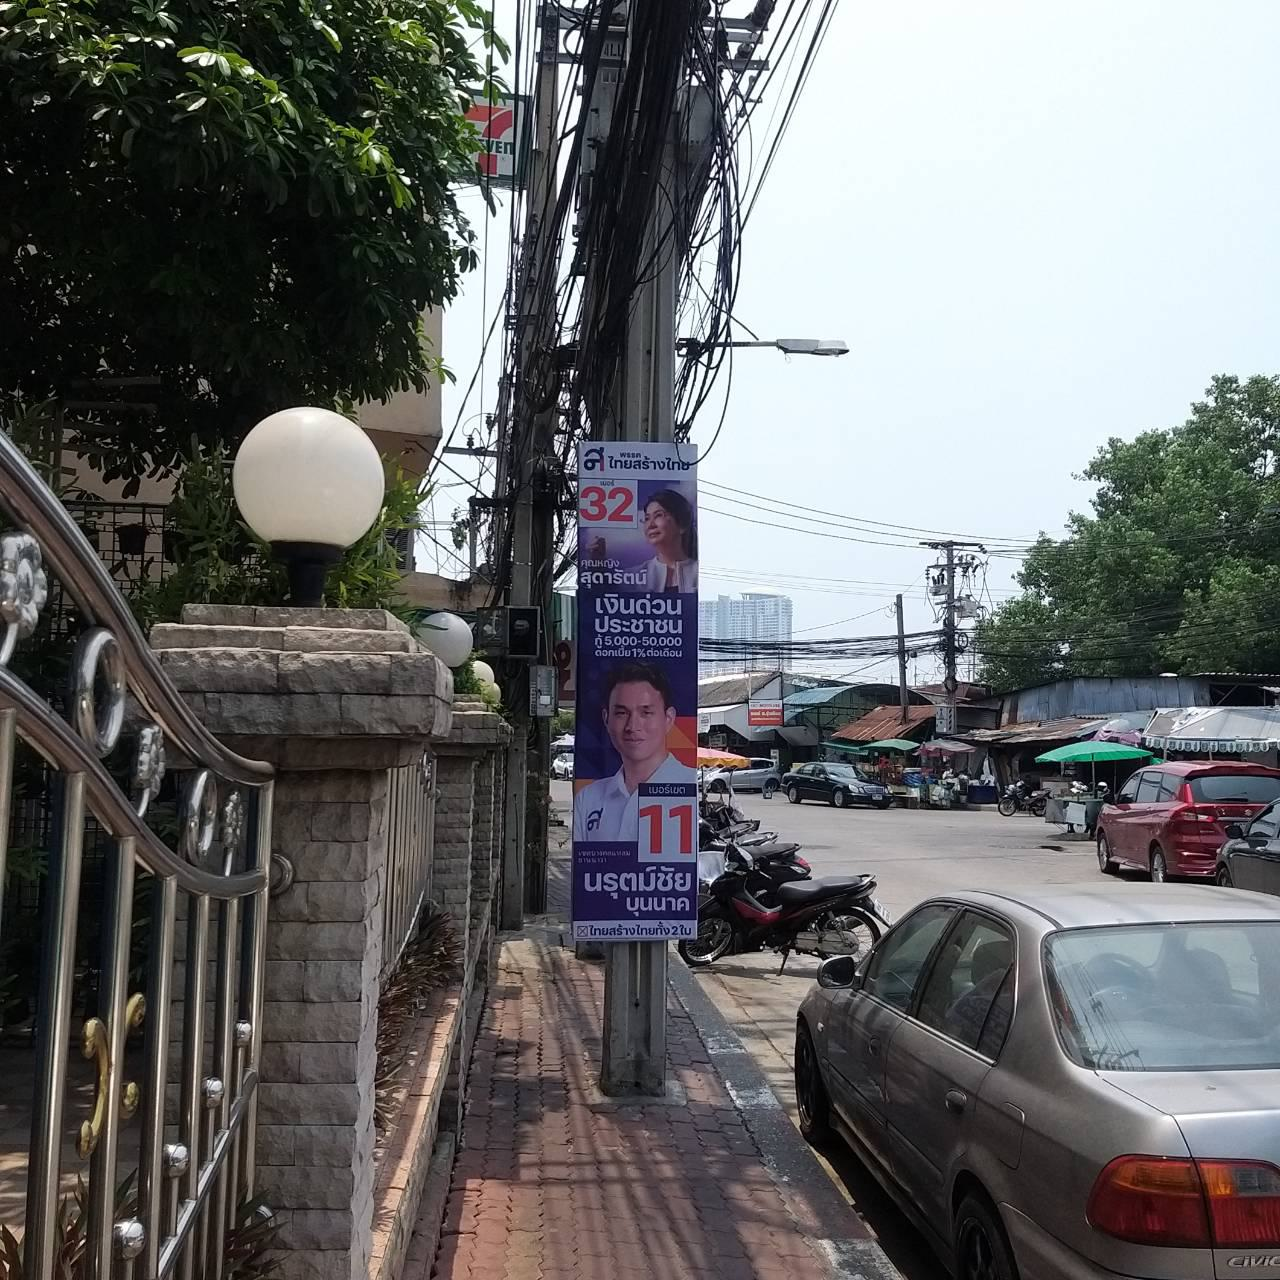Banner: (576, 438, 696, 942)
